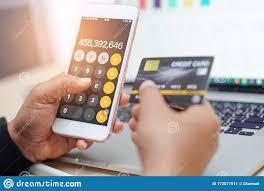Calculator: (58, 36, 126, 127)
